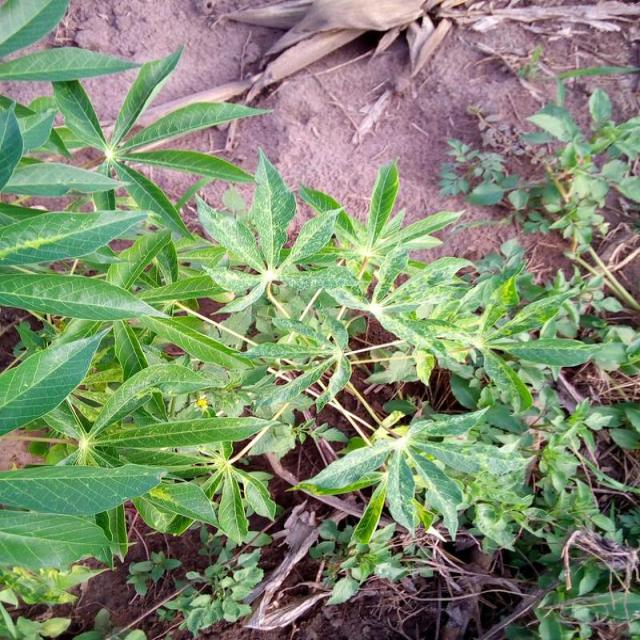cassava leaf: (0, 461, 163, 517)
